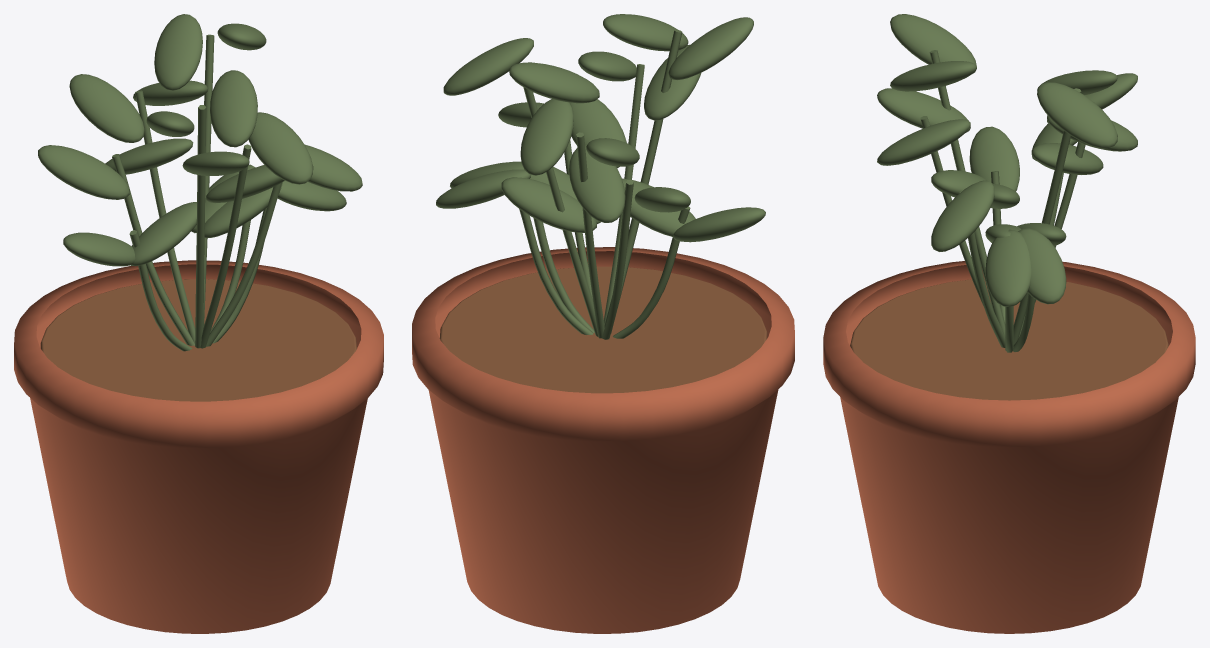
The model's file is BasilPot.fbx.
3 renders of one model, left to right at view 1: azimuth 30°, elevation 25°; view 2: azimuth 150°, elevation 25°; view 3: azimuth 270°, elevation 25°, orthographic. The views are drawn at different scales.
Visible parts, largest first — view 1: Surface_KKTC_Terracotta, Surface_KKTC_Olive, Surface_KKTC_Wood; view 2: Surface_KKTC_Terracotta, Surface_KKTC_Olive, Surface_KKTC_Wood; view 3: Surface_KKTC_Terracotta, Surface_KKTC_Olive, Surface_KKTC_Wood.
Boxes of the visible parts, x1,y1,x2,y2 form: Surface_KKTC_Terracotta: [14, 260, 383, 633]; Surface_KKTC_Olive: [38, 14, 362, 351]; Surface_KKTC_Wood: [40, 279, 356, 401]; Surface_KKTC_Terracotta: [412, 247, 794, 633]; Surface_KKTC_Olive: [436, 14, 765, 339]; Surface_KKTC_Wood: [439, 266, 767, 393]; Surface_KKTC_Terracotta: [823, 261, 1195, 633]; Surface_KKTC_Olive: [877, 14, 1137, 352]; Surface_KKTC_Wood: [850, 278, 1168, 400].
Bounding box in the file's own units: 18.2 × 28.13 × 18.2.
